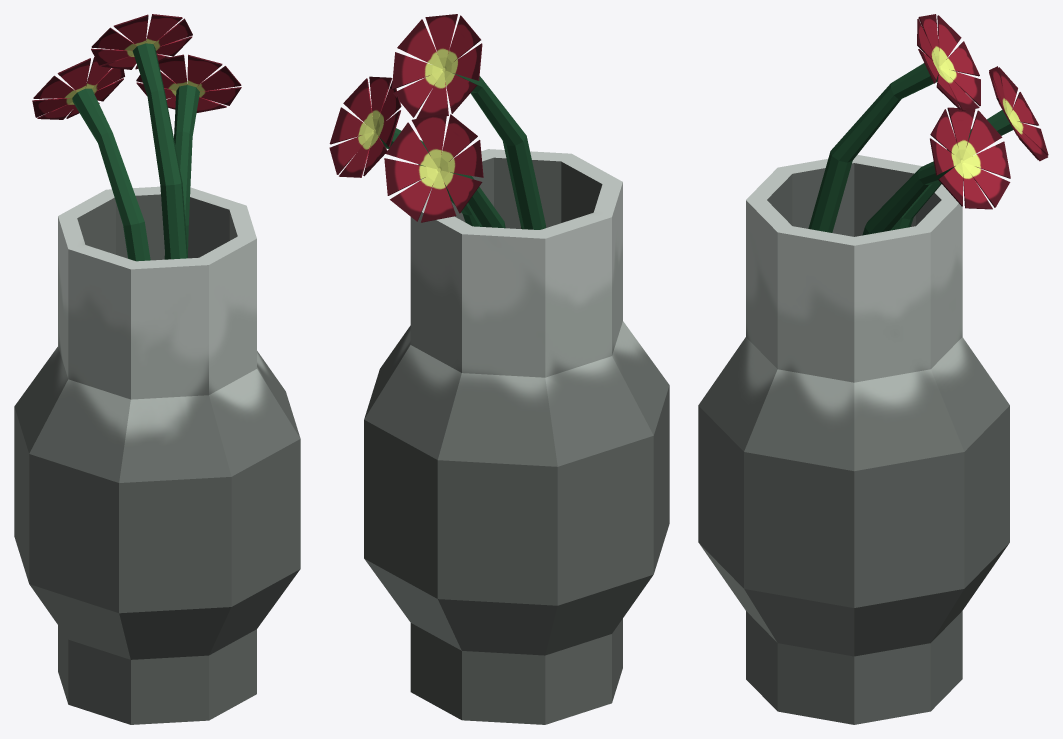
The model's file is Vase.fbx.
3 views of the same model, side by side, from view 1: azimuth 30°, elevation 25°; view 2: azimuth 150°, elevation 25°; view 3: azimuth 270°, elevation 25° (orthographic). The views are drawn at different scales.
Visible parts, largest first — view 1: vase_geo, flower_i2_geo, flower_mast_geo, flower_i1_geo; view 2: vase_geo, flower_i2_geo, flower_mast_geo, flower_i1_geo; view 3: vase_geo, flower_i2_geo, flower_i1_geo, flower_mast_geo.
Boxes of the visible parts, x1=… form: vase_geo: x1=14, y1=186, x2=300, y2=724; flower_i2_geo: x1=91, y1=14, x2=192, y2=259; flower_mast_geo: x1=32, y1=57, x2=150, y2=261; flower_i1_geo: x1=136, y1=54, x2=241, y2=259; vase_geo: x1=364, y1=149, x2=669, y2=724; flower_i2_geo: x1=392, y1=14, x2=545, y2=229; flower_mast_geo: x1=384, y1=113, x2=505, y2=228; flower_i1_geo: x1=329, y1=76, x2=479, y2=226; vase_geo: x1=698, y1=155, x2=1009, y2=724; flower_i2_geo: x1=808, y1=14, x2=980, y2=232; flower_i1_geo: x1=862, y1=107, x2=1010, y2=235; flower_mast_geo: x1=890, y1=66, x2=1048, y2=230.
Size of the model in its own units: 4.13 by 9.84 by 4.64.
